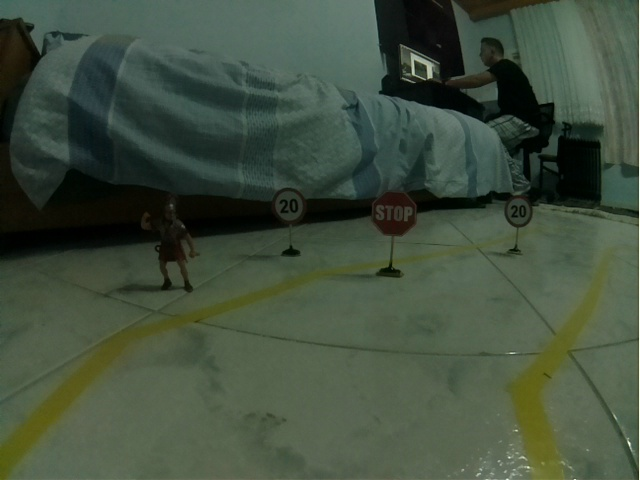Person: (140, 191, 200, 293)
Speed Limit 20: (272, 187, 307, 225), (504, 195, 533, 228)
Stop: (372, 191, 417, 237)
